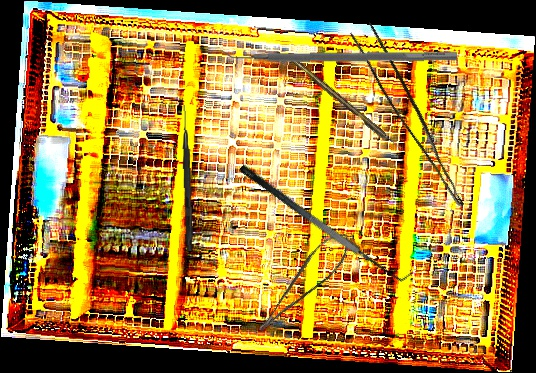Hook Surgical: (284, 51, 403, 153), (179, 104, 195, 252)
Micro Scissor: (242, 225, 362, 336)
Spatula Surgical: (238, 150, 414, 292), (219, 40, 458, 66)
Tissue Forceps: (343, 20, 485, 208)
